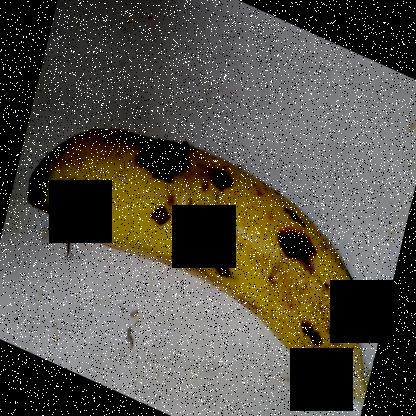rotten: (272, 193, 326, 284), (127, 132, 194, 190), (188, 198, 240, 252), (330, 233, 366, 308), (144, 194, 182, 256), (206, 161, 244, 203), (200, 251, 236, 293), (296, 314, 329, 350)
